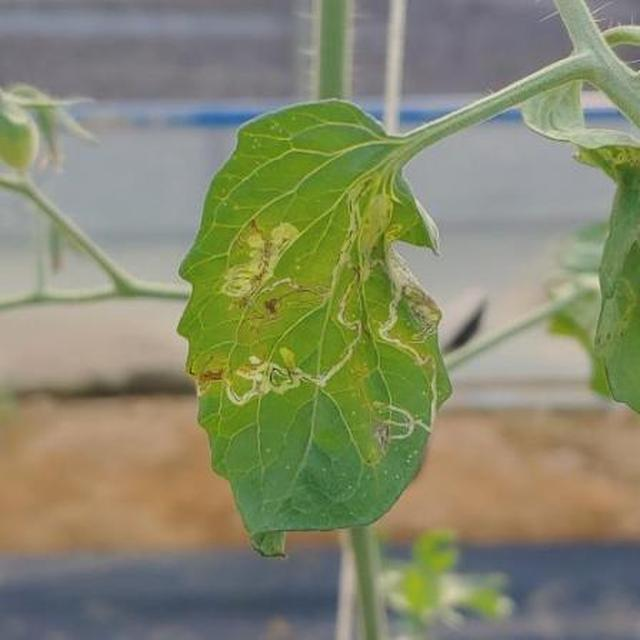Leaf Miner: (251, 148, 640, 640)
